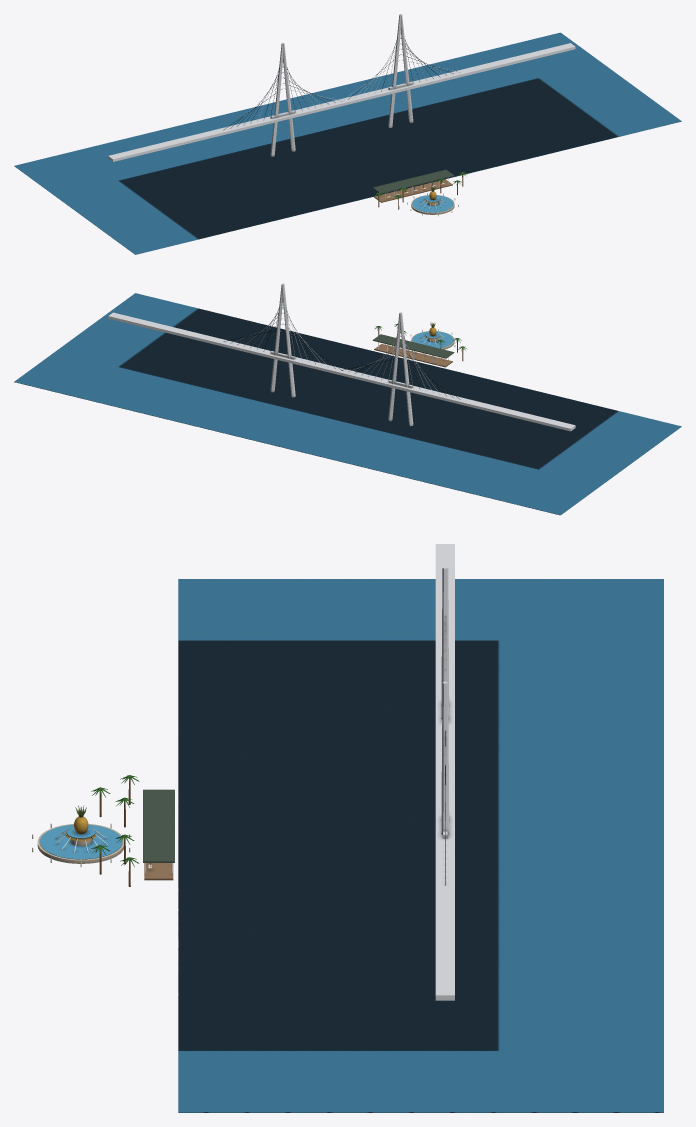
The model's file is fuente_pina.glb.
3 renders of one model, top to bottom at view 1: azimuth 30°, elevation 25°; view 2: azimuth 150°, elevation 25°; view 3: azimuth 270°, elevation 25°, orthographic. The views are drawn at different scales.
Parts seen in each view (by area): view 1: fuente_pina; view 2: fuente_pina; view 3: fuente_pina.
Part boxes in pixels (x1,y1,x2,y2): fuente_pina: (14, 14, 681, 254); fuente_pina: (14, 283, 681, 515); fuente_pina: (32, 544, 663, 1112).
Bounding box in the file's own units: 260 × 50.2 × 130.
1 material, 1 textured.
